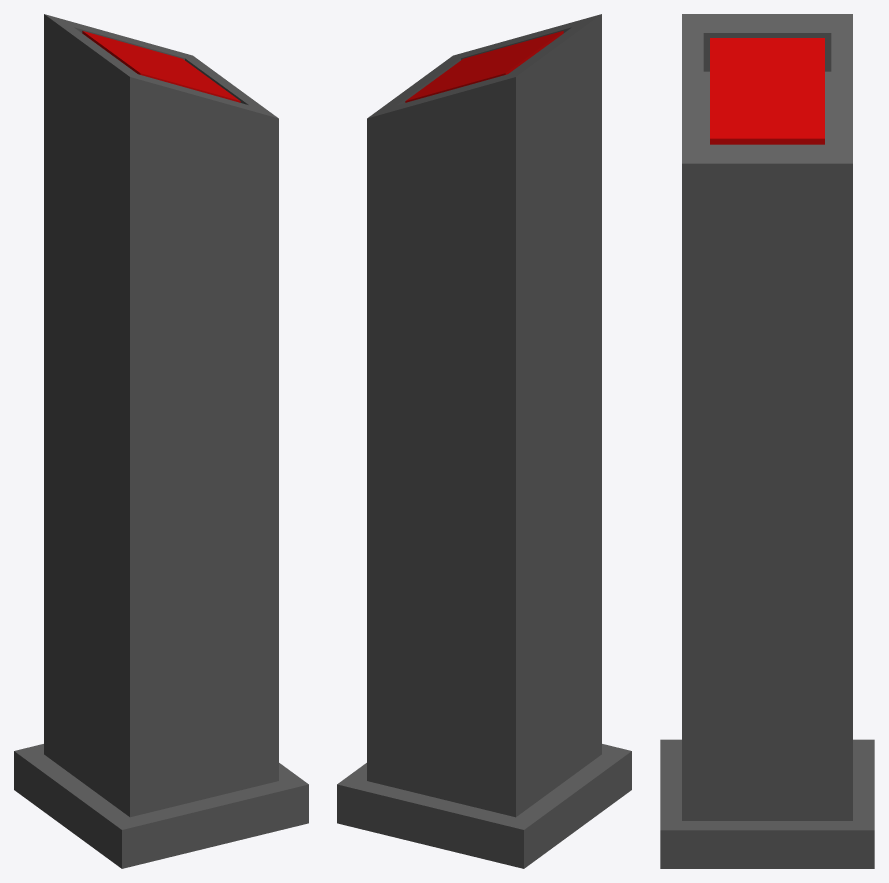
File: button.fbx
3 renders of one model, left to right at view 1: azimuth 30°, elevation 25°; view 2: azimuth 150°, elevation 25°; view 3: azimuth 270°, elevation 25°, orthographic.
Parts seen in each view (by area): view 1: Object001, Object002; view 2: Object001, Object002; view 3: Object001, Object002.
Boxes of the visible parts, x1,y1,x2,y2 form: Object001: (14, 14, 308, 868); Object002: (82, 31, 240, 102); Object001: (337, 14, 631, 868); Object002: (405, 31, 563, 102); Object001: (660, 14, 874, 868); Object002: (710, 38, 824, 144).
Size of the model in its own units: 25.1 by 100 by 25.1.
